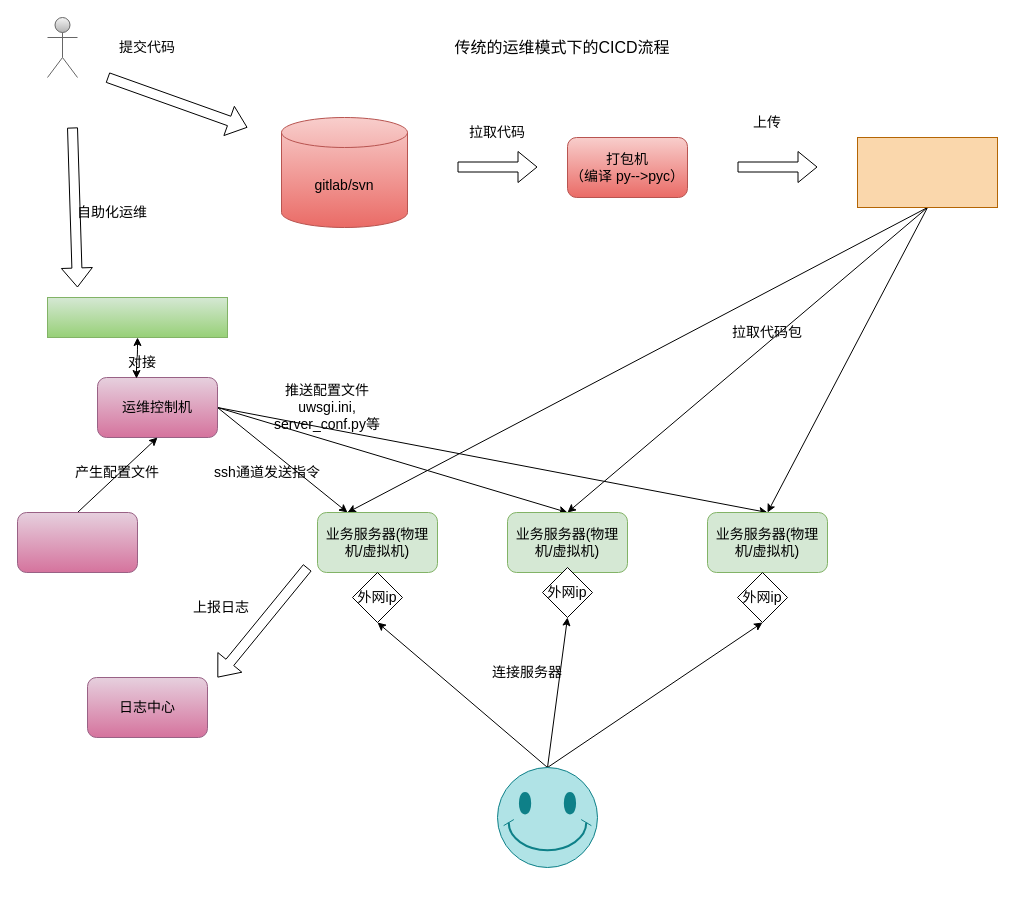
This 1015x909 diagram has some shape labels left out. Each missing label, with the centre of its shape:
ftp/rsync/http: the point at 927,172
workflow流程平台: the point at 137,317
玩家/用户: the point at 547,817
程序员1: the point at 62,47
运维CMDB: the point at 77,542
